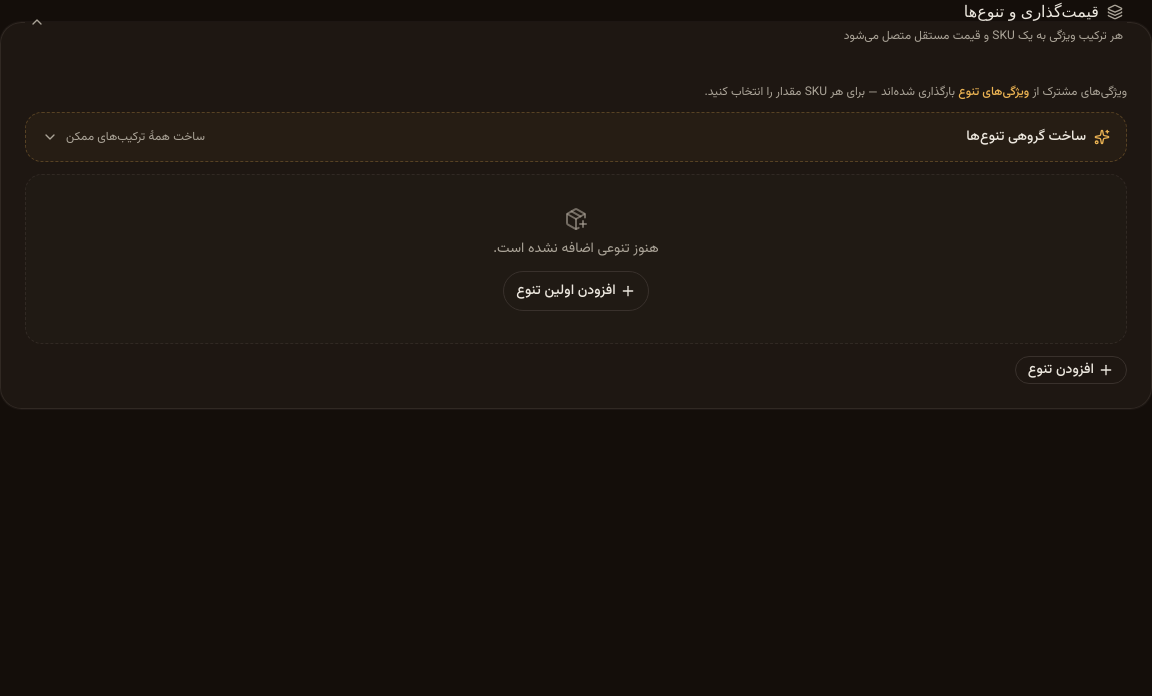
VariantsSection option catalog › hands every bulk-generated row an SKU built from the product code
Click the button "ساخت گروهی تنوع‌ها ساخت همهٔ ترکیب‌های ممکن" at point(1026, 137), box [26, 113, 1126, 161]
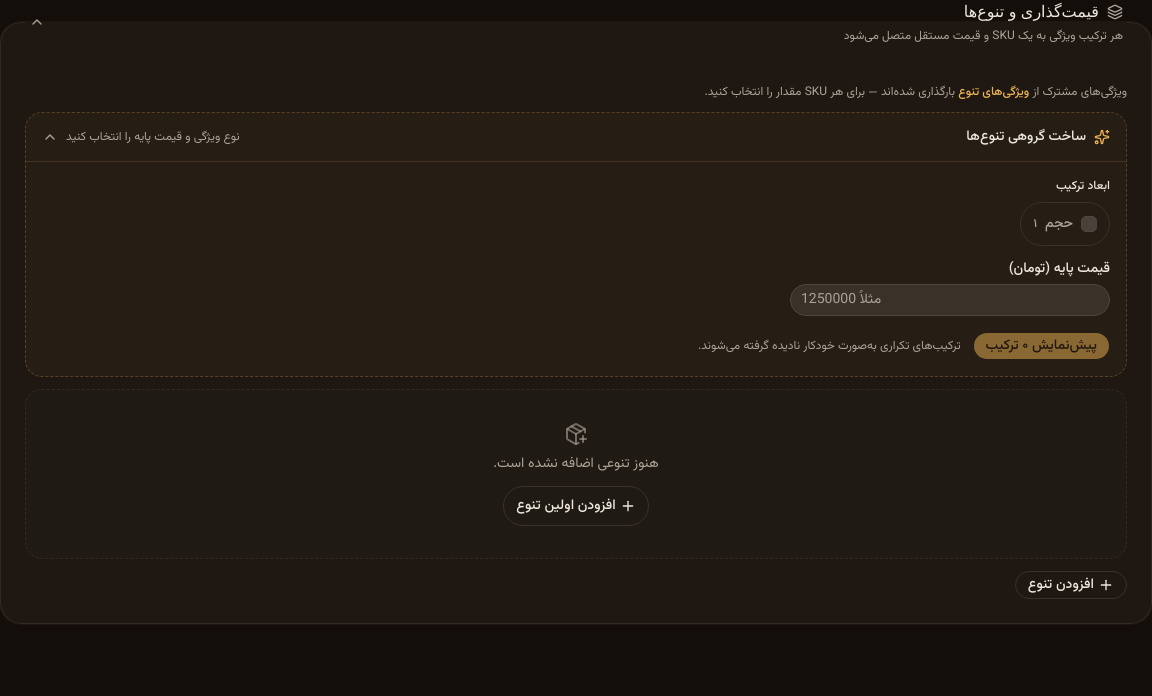
Click the checkbox named "حجم" at point(1089, 224), box [1081, 216, 1097, 232]
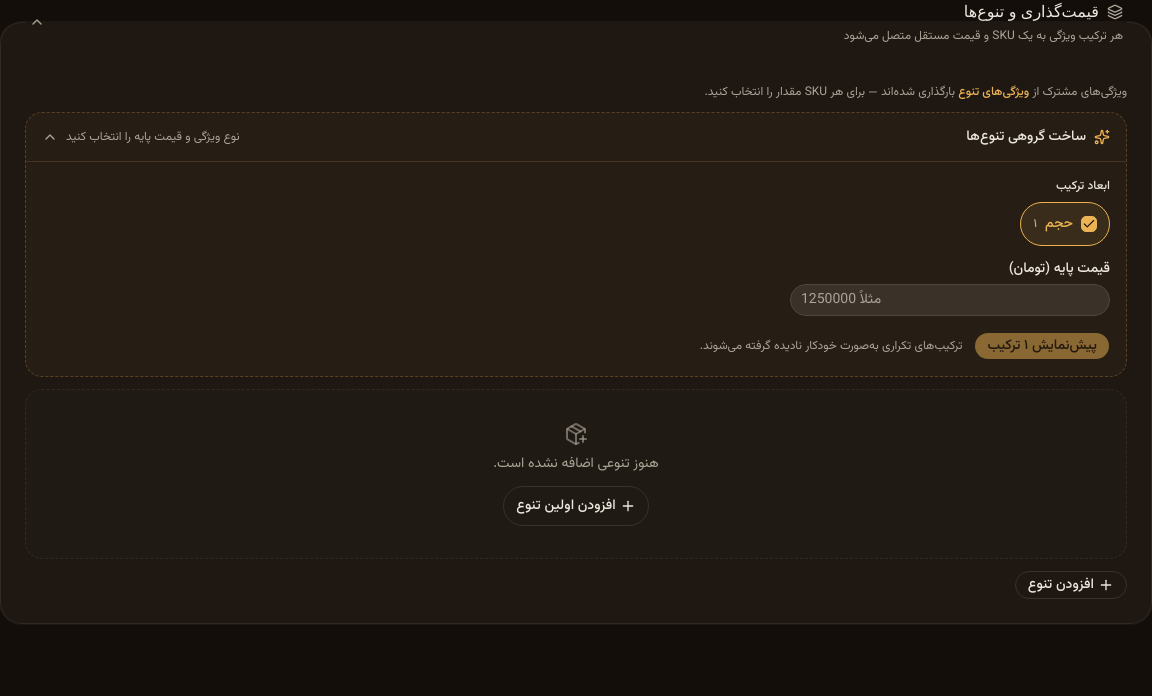
Type "1250000" into the number field labelled "قیمت پایه (تومان)" at point(950, 300), box [790, 284, 1110, 316]
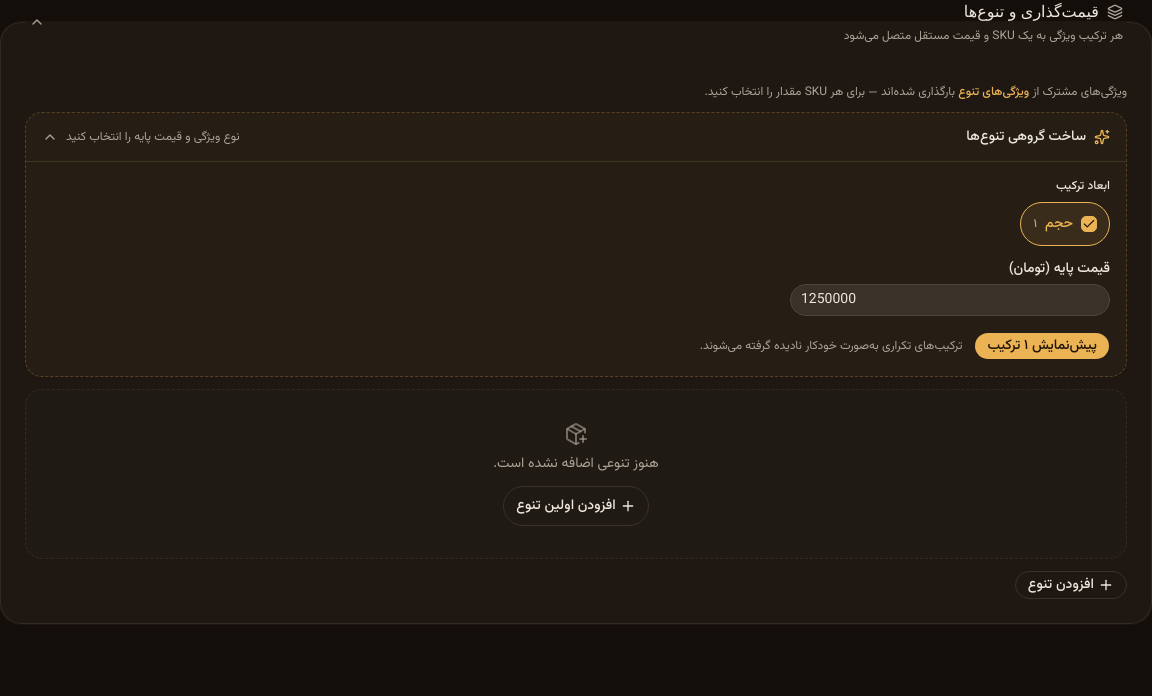
Click the button "پیش‌نمایش ۱ ترکیب" at point(1042, 346), box [974, 332, 1110, 360]
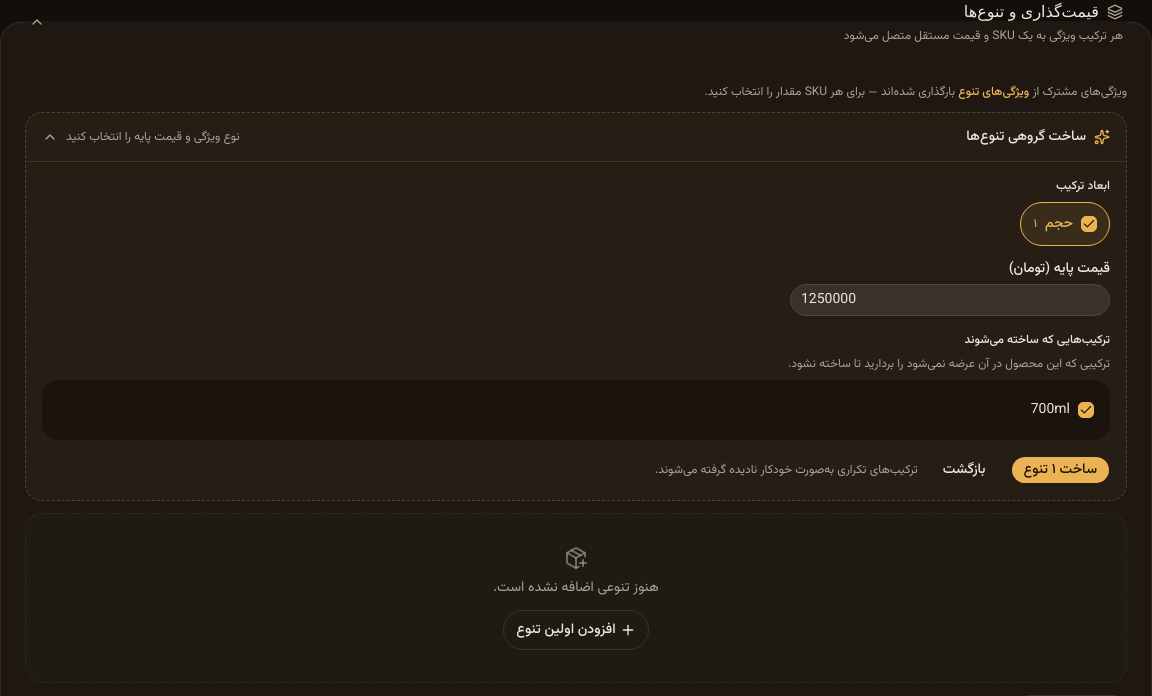
Click the button "ساخت ۱ تنوع" at point(1060, 470), box [1011, 456, 1110, 484]
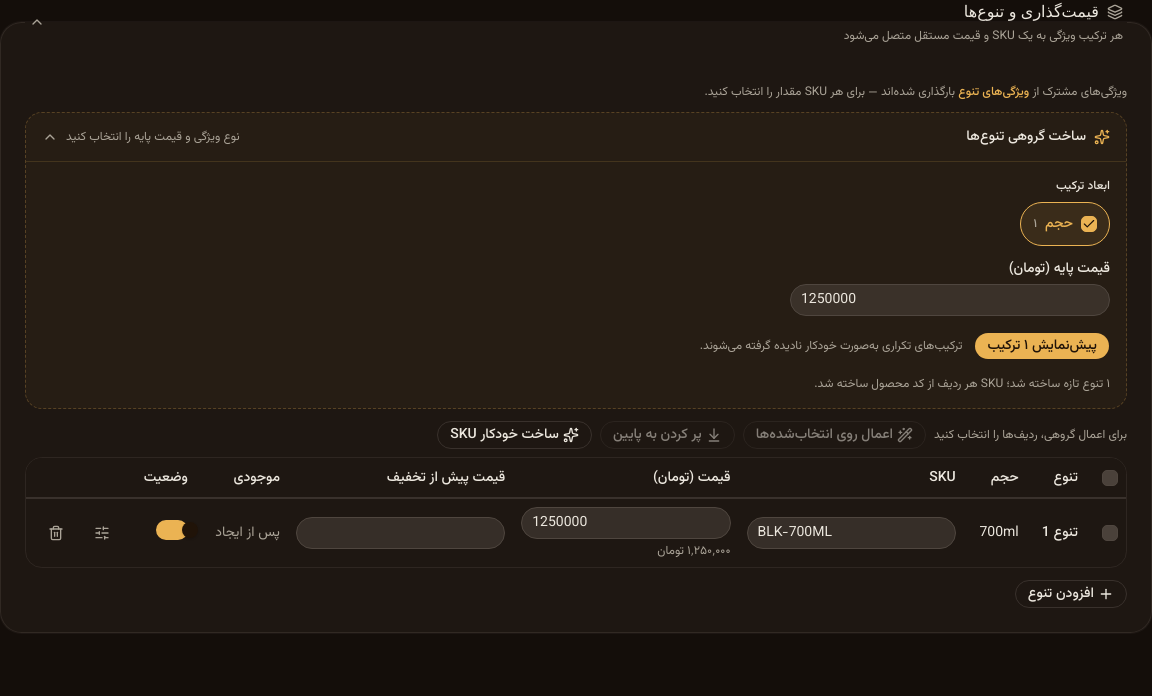
Now the field named "SKU تنوع 1" holds "BLK-700ML", box [746, 516, 956, 548]
